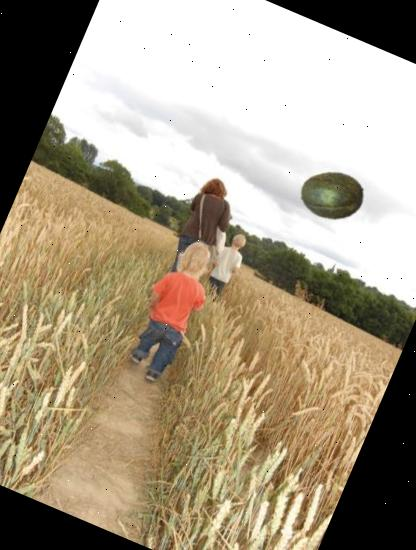Melon: (290, 155, 374, 238)
